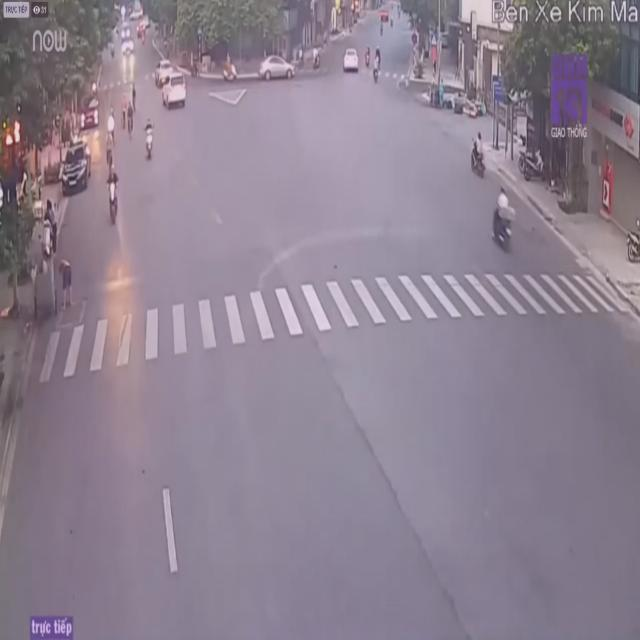car: (162, 71, 188, 112), (258, 54, 292, 82)
motorbike: (493, 185, 514, 248), (472, 128, 488, 181), (142, 118, 156, 162)
